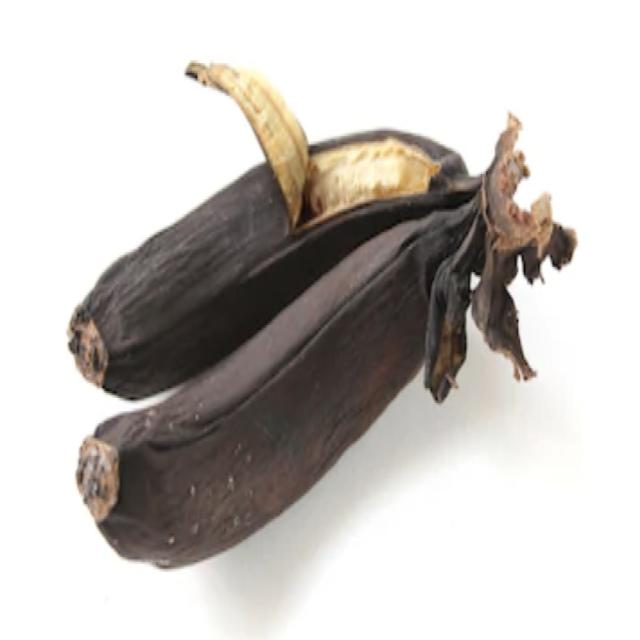banana: (77, 196, 487, 568), (69, 64, 482, 399)
